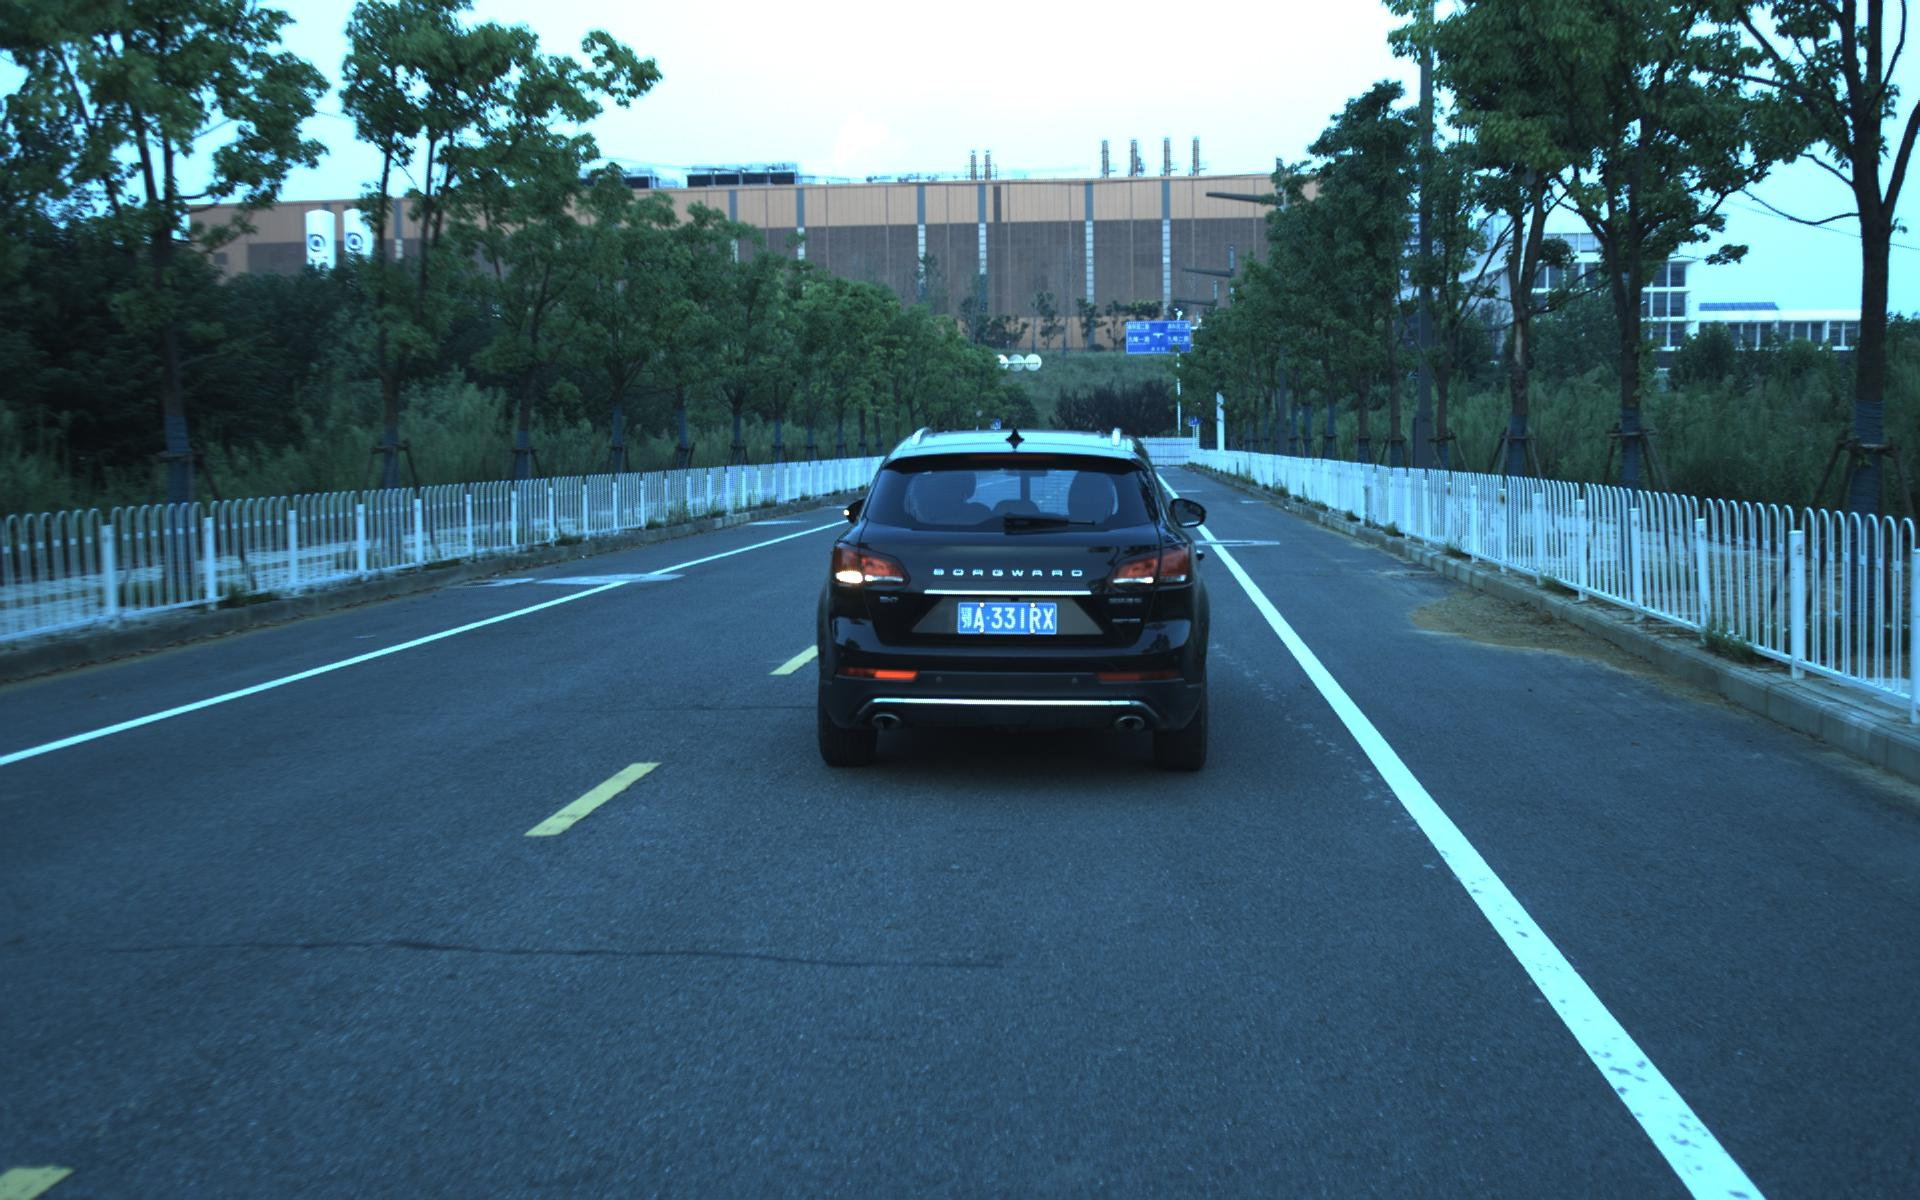Car: (807, 418, 1210, 780)
